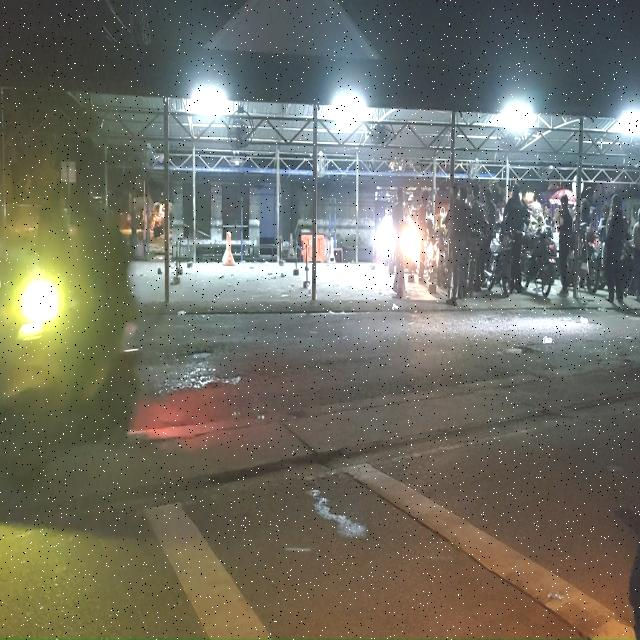Golongan II: (0, 250, 139, 487), (522, 227, 557, 297), (485, 233, 512, 297), (432, 228, 450, 288), (586, 240, 606, 294)
